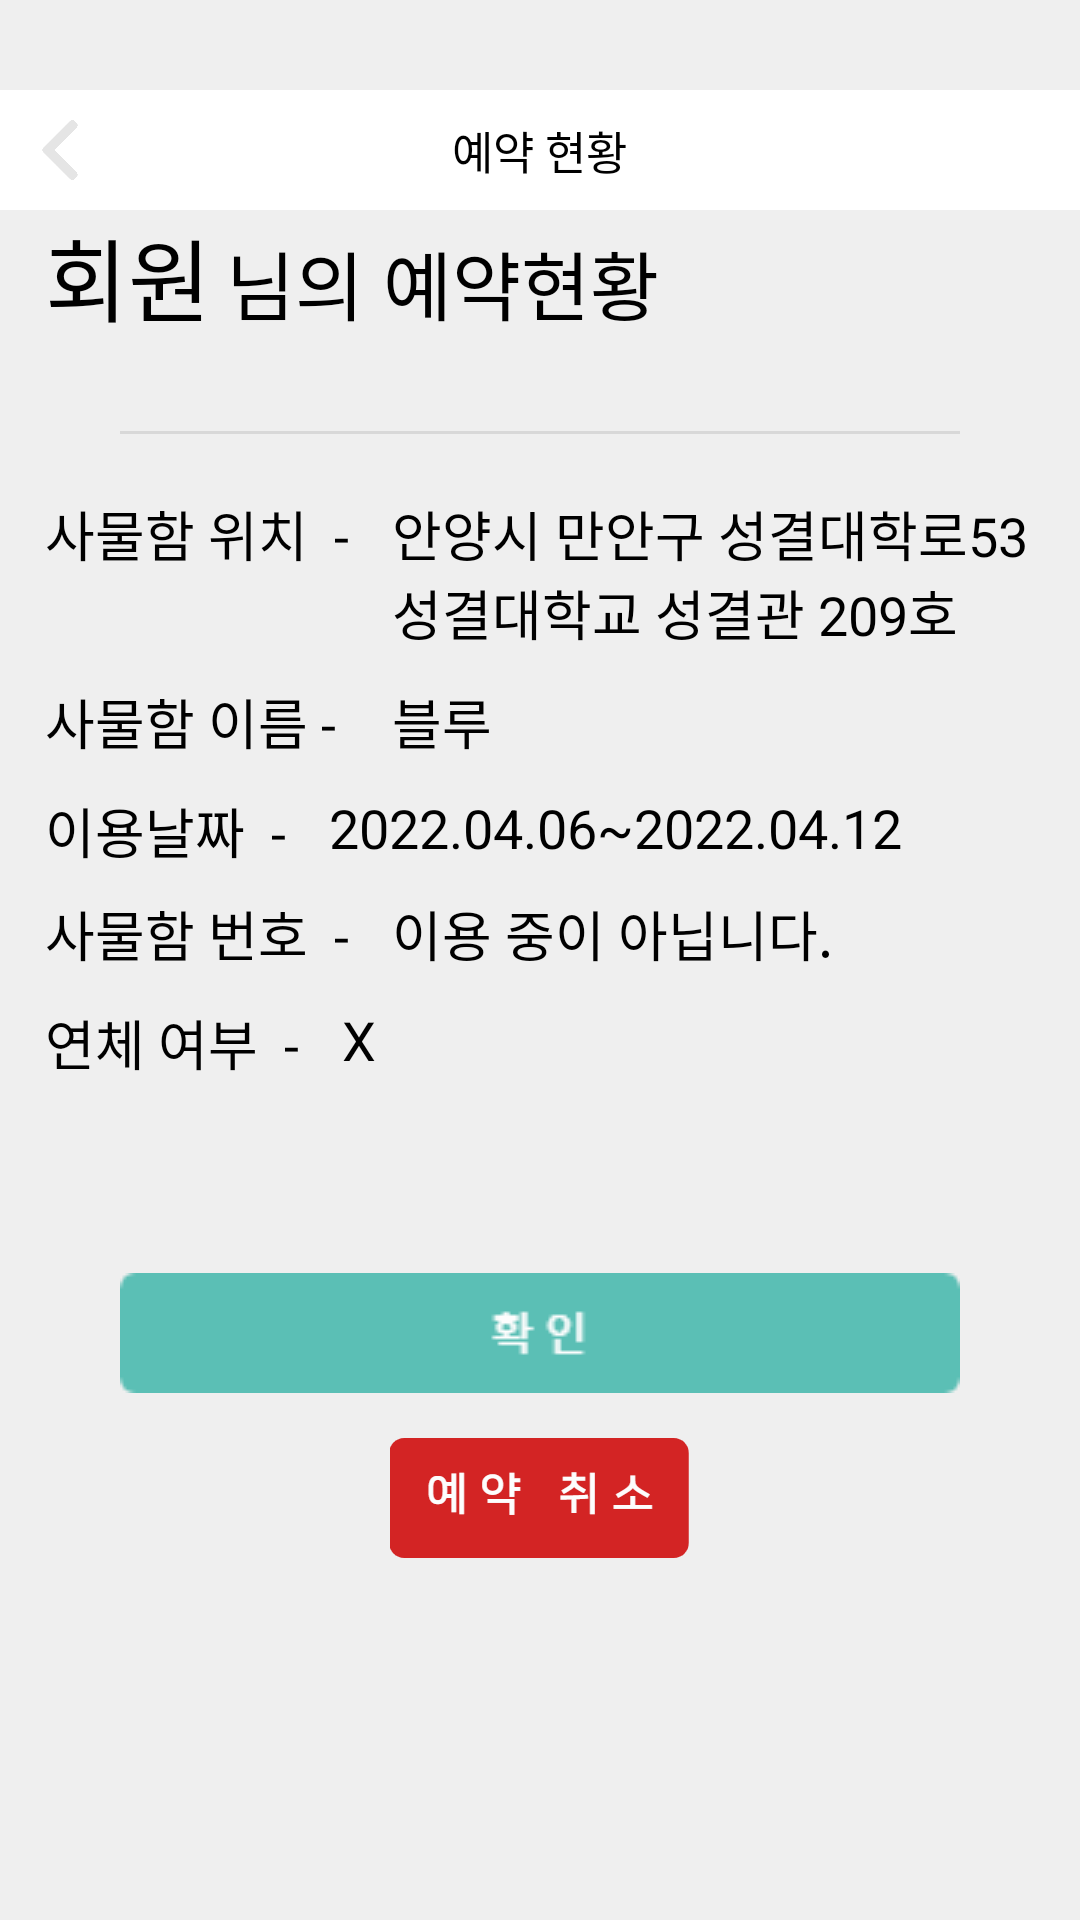

Where to tap for icons on this 1080px×1920px app screen, as (x,y):
left arrow: (60,150)
